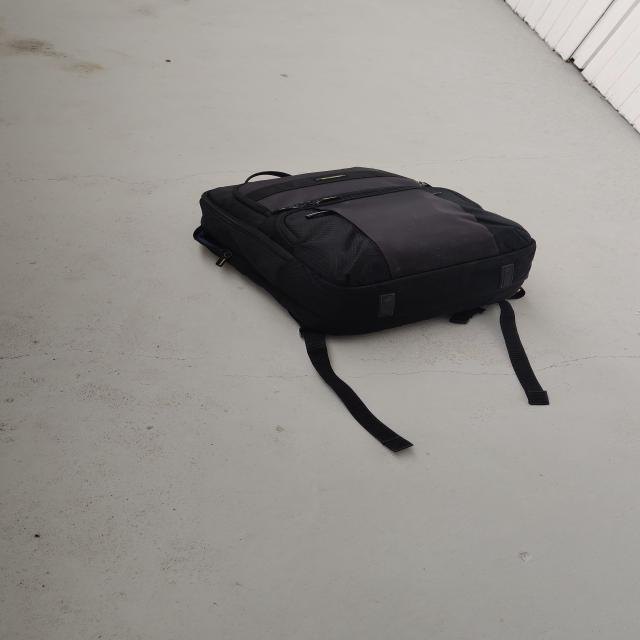backpack: (178, 160, 548, 346)
